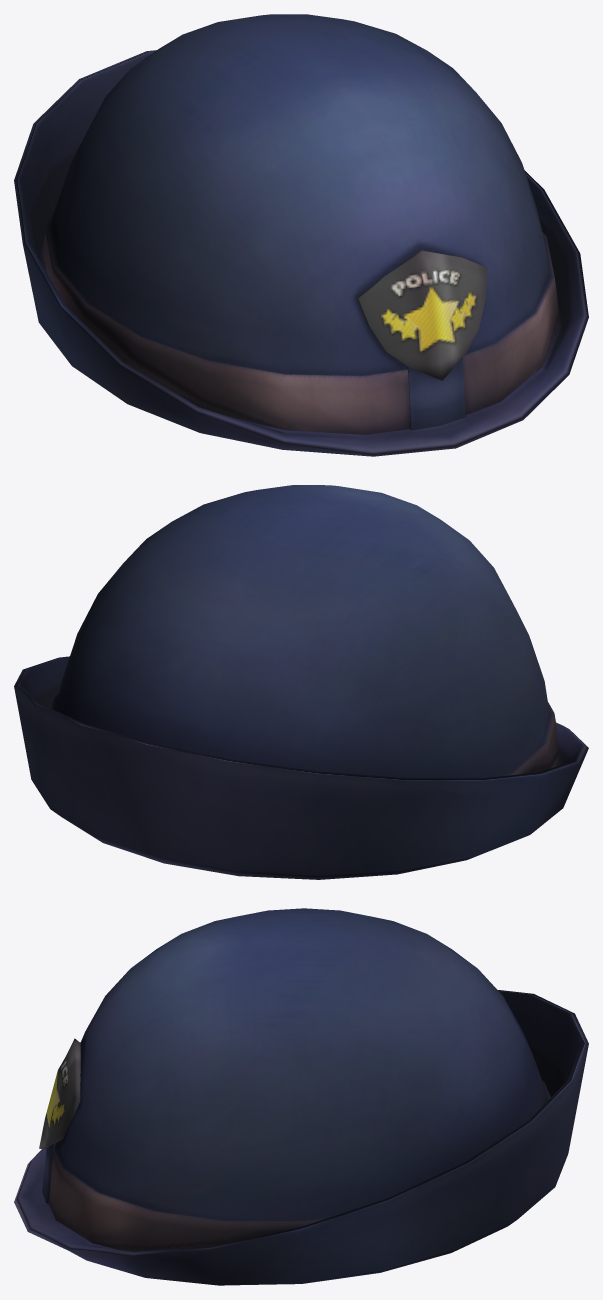
File: Rin_hat.fbx
The picture shows the model from 3 angles, top to bottom: view 1: azimuth 30°, elevation 25°; view 2: azimuth 150°, elevation 25°; view 3: azimuth 270°, elevation 25°; orthographic projection. The views are drawn at different scales.
Parts seen in each view (by area): view 1: Rin_hat; view 2: Rin_hat; view 3: Rin_hat.
Boxes of the visible parts, bbox=[...] form: Rin_hat: bbox=[14, 14, 588, 456]; Rin_hat: bbox=[14, 485, 588, 879]; Rin_hat: bbox=[14, 908, 588, 1285].
Size of the model in its own units: 2.14 by 1.2 by 2.36.
